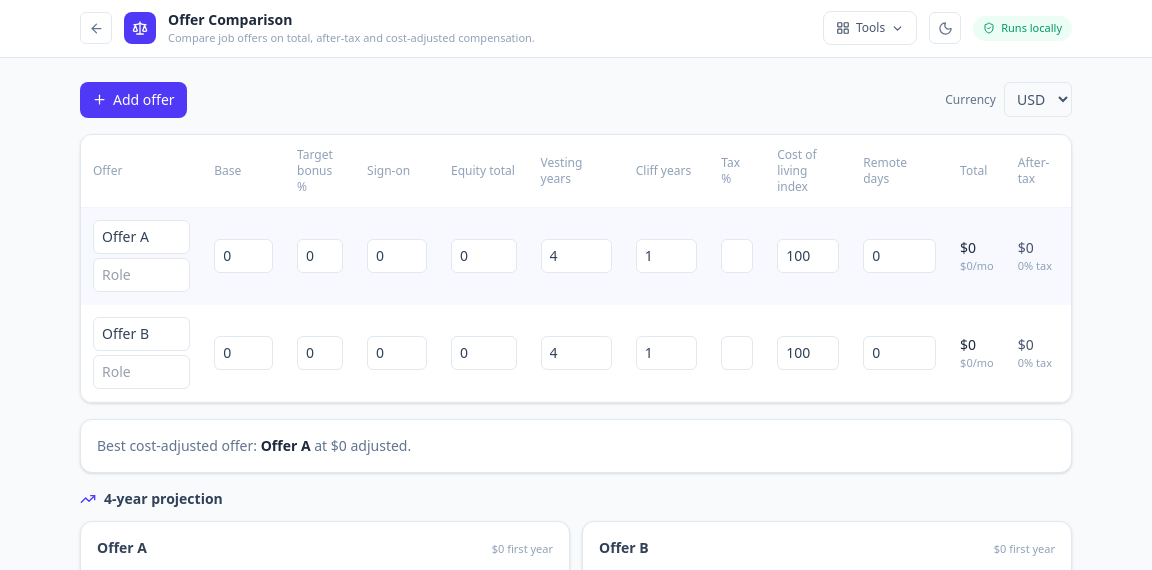
Test case: OfferCompareApp › adds an offer
Click the button "Add offer": (133, 100) [80,82,187,118]
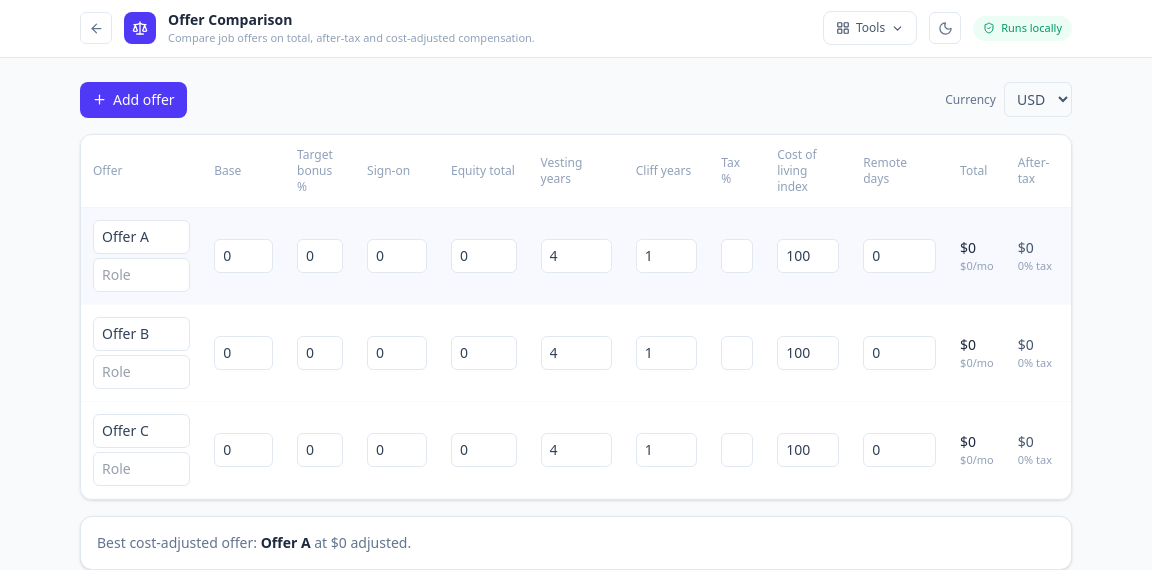
Check: the number field named "Base Offer C" is shown, box [214,432,273,466]
